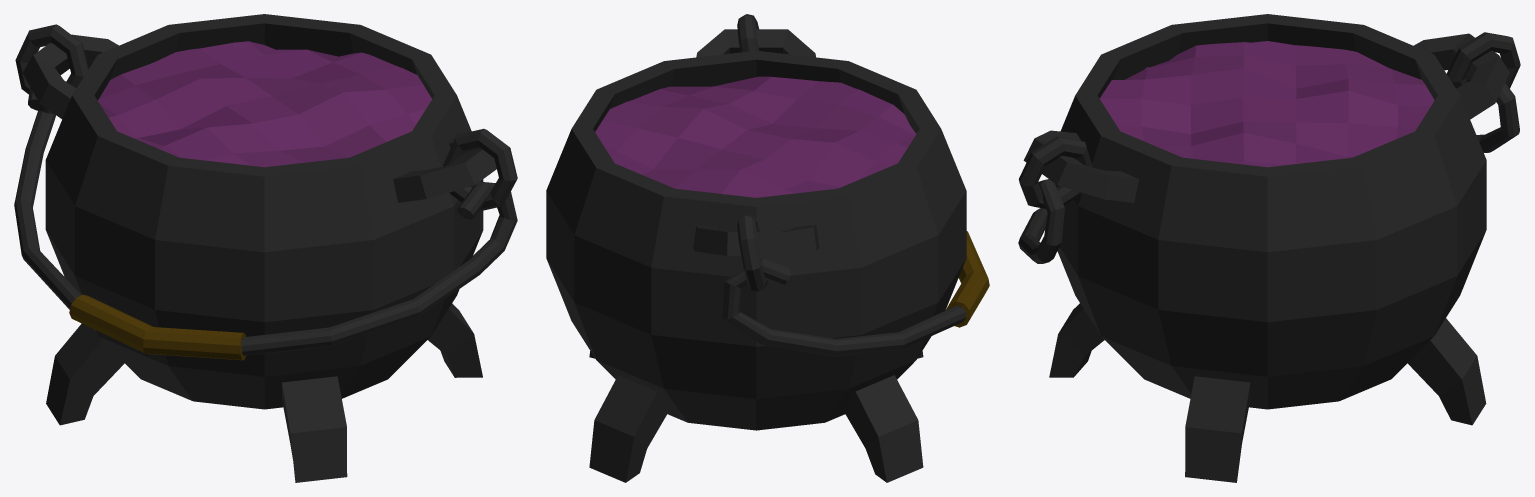
Rendered from Cauldron.fbx.
3 renders of one model, left to right at view 1: azimuth 30°, elevation 25°; view 2: azimuth 150°, elevation 25°; view 3: azimuth 270°, elevation 25°, orthographic. The views are drawn at different scales.
Visible parts, largest first — view 1: Cauldron1; view 2: Cauldron1; view 3: Cauldron1.
Boxes of the visible parts, left/top/right/bottom form: Cauldron1: left=14, top=14, right=517, bottom=482; Cauldron1: left=546, top=14, right=989, bottom=482; Cauldron1: left=1018, top=14, right=1520, bottom=482.
Bounding box in the file's own units: 2.41 × 1.79 × 2.63.
